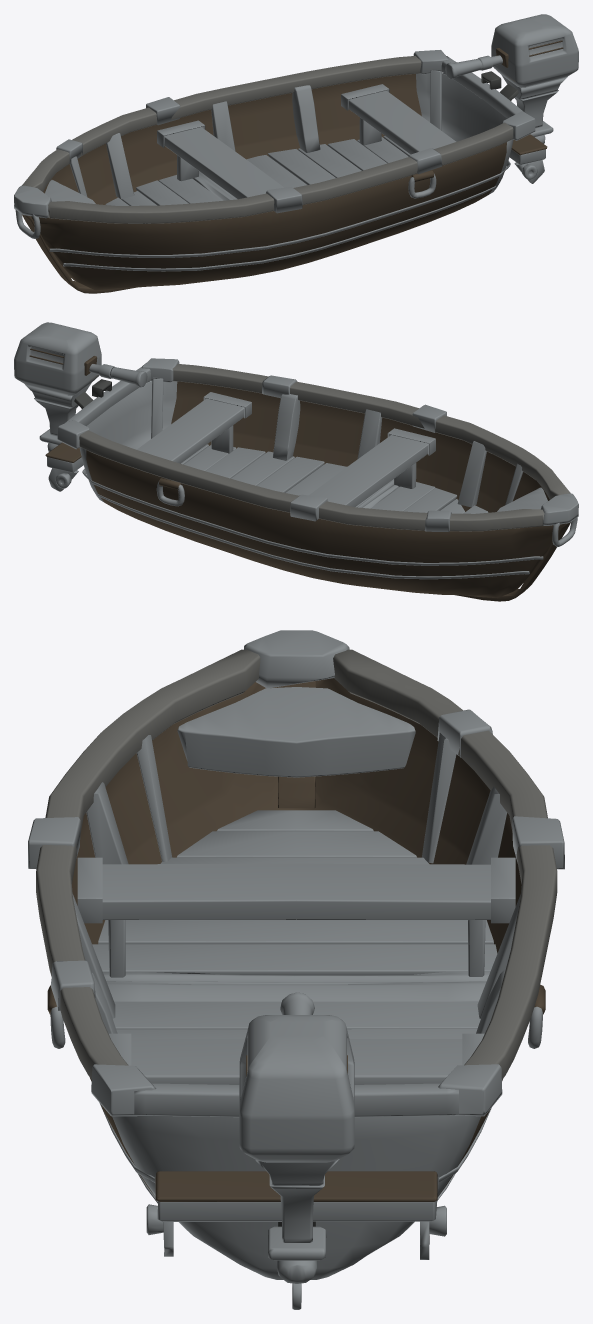
The model's file is Boat_6K_Geometry_Review.glb.
3 views of the same model, one above another, from view 1: azimuth 30°, elevation 25°; view 2: azimuth 150°, elevation 25°; view 3: azimuth 270°, elevation 25° (orthographic). The views are drawn at different scales.
Parts seen in each view (by area): view 1: Hull_Shell, Gunwale_Port, Gunwale_Starboard, Motor_Cowling, Bench_01_Plank, Transom, Bench_02_Plank, Strake_1_-1, Strake_2_-1, Rib_03_+1, Floorboard_10, Gunwale_Transom (+27 smaller); view 2: Hull_Shell, Gunwale_Starboard, Gunwale_Port, Motor_Cowling, Bench_01_Plank, Transom, Bench_02_Plank, Strake_1_+1, Strake_2_+1, Rib_03_-1, Floorboard_10, Gunwale_Transom (+28 smaller); view 3: Hull_Shell, Bench_01_Plank, Transom, Gunwale_Port, Gunwale_Starboard, Bow_Deck, Motor_Cowling, Floorboard_06, Floorboard_07, Bench_02_Plank, Floorboard_05, Floorboard_08 (+29 smaller).
Part boxes in pixels (x1,y1,x2,y2): Hull_Shell: (31, 74, 506, 290); Gunwale_Port: (48, 122, 513, 223); Gunwale_Starboard: (22, 56, 421, 191); Motor_Cowling: (491, 14, 578, 87); Bench_01_Plank: (164, 127, 283, 199); Transom: (416, 72, 513, 194); Bench_02_Plank: (348, 90, 456, 154); Strake_1_-1: (49, 160, 510, 257); Strake_2_-1: (63, 186, 495, 271); Rib_03_+1: (292, 85, 320, 152); Floorboard_10: (268, 149, 335, 184); Gunwale_Transom: (441, 56, 522, 118); Hull_Shell: (86, 381, 561, 598); Gunwale_Starboard: (79, 430, 544, 531); Gunwale_Port: (172, 364, 570, 499); Motor_Cowling: (14, 322, 101, 395); Bench_01_Plank: (309, 435, 428, 506); Transom: (79, 380, 177, 502); Bench_02_Plank: (137, 398, 244, 463); Strake_1_+1: (82, 468, 543, 565); Strake_2_+1: (97, 493, 529, 579); Rib_03_-1: (272, 394, 300, 460); Floorboard_10: (257, 456, 324, 492); Gunwale_Transom: (65, 367, 151, 426); Hull_Shell: (72, 678, 521, 1196); Bench_01_Plank: (102, 863, 490, 920); Transom: (112, 1115, 480, 1279); Gunwale_Port: (36, 649, 260, 1078); Gunwale_Starboard: (333, 649, 557, 1079); Bow_Deck: (177, 687, 415, 777); Motor_Cowling: (239, 1015, 354, 1162); Floorboard_06: (92, 944, 497, 974); Floorboard_07: (103, 971, 489, 1001); Bench_02_Plank: (131, 1039, 462, 1084); Floorboard_05: (98, 920, 493, 944); Floorboard_08: (113, 1001, 480, 1029).
Bounding box in the file's own units: 0.9986 × 0.2945 × 0.4234.
